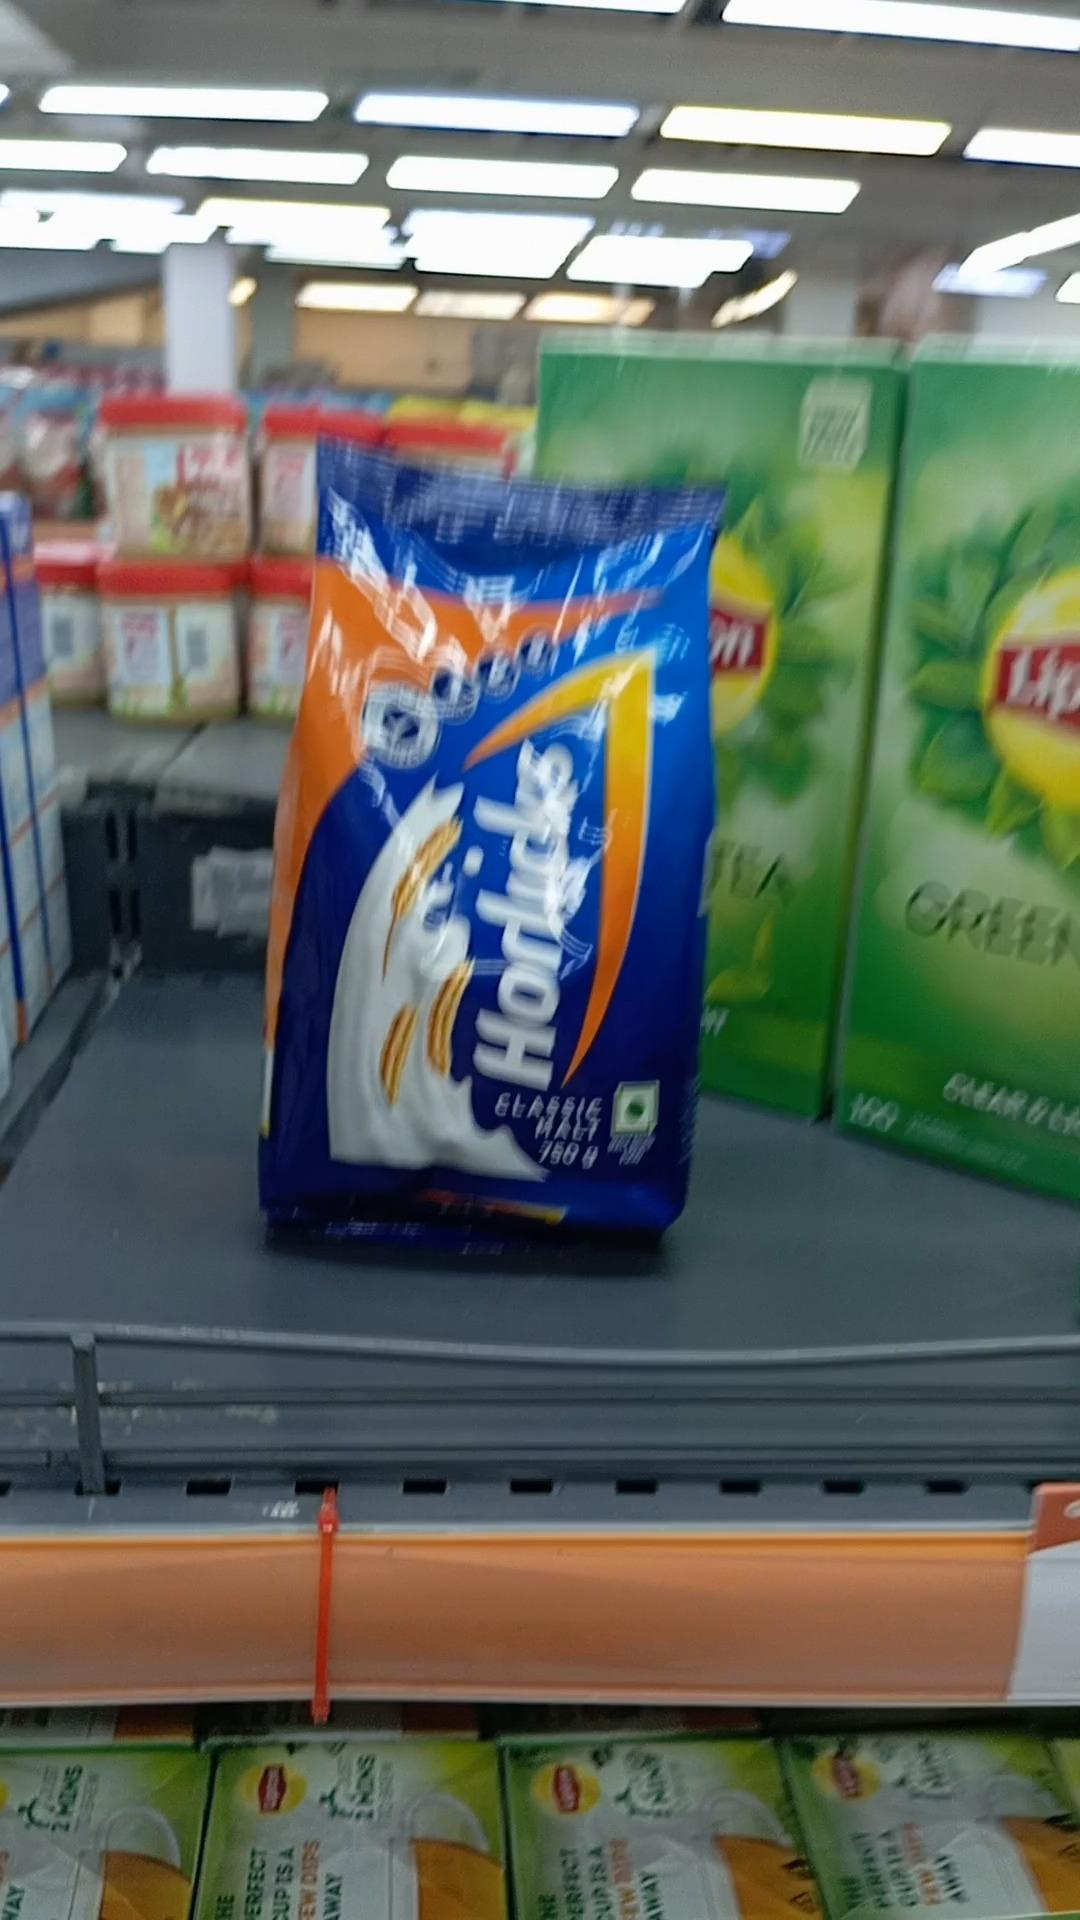HORLICK_CLASSIC_MALT_750_G_POUCH: (306, 429, 698, 1237)
